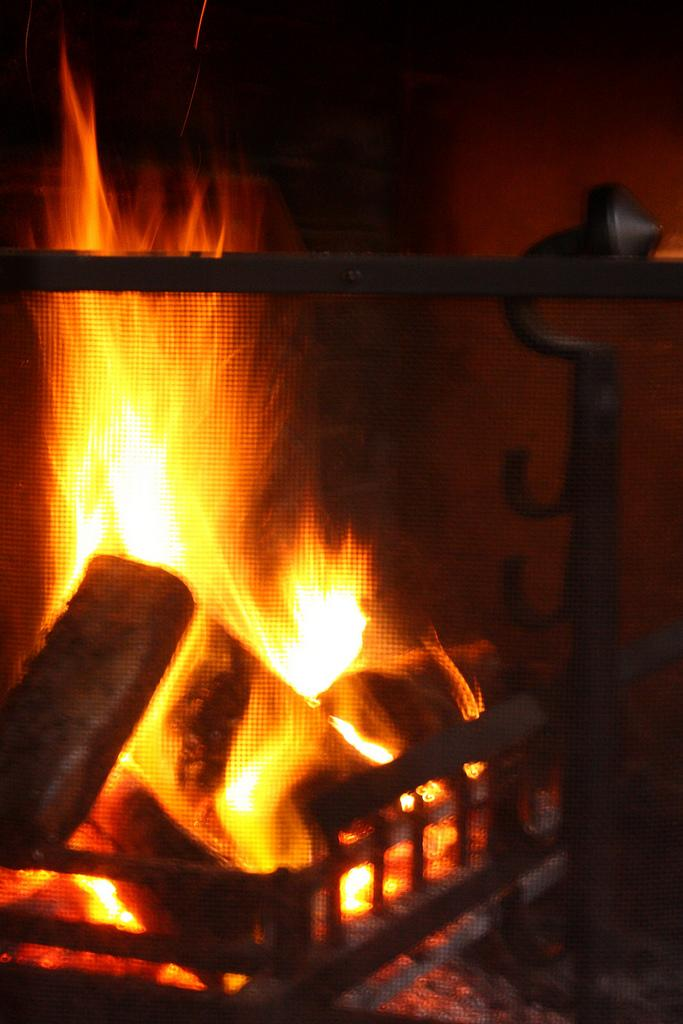fire: (47, 288, 248, 575), (205, 720, 322, 850), (280, 565, 387, 685)
